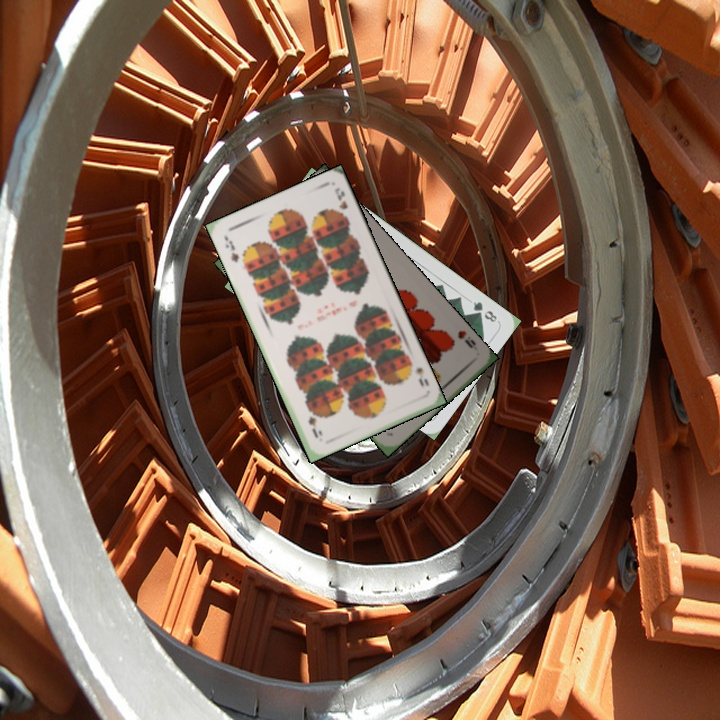G8: (469, 297, 500, 325)
H9: (453, 326, 479, 351)
S9: (221, 236, 242, 265), (410, 362, 432, 389)
